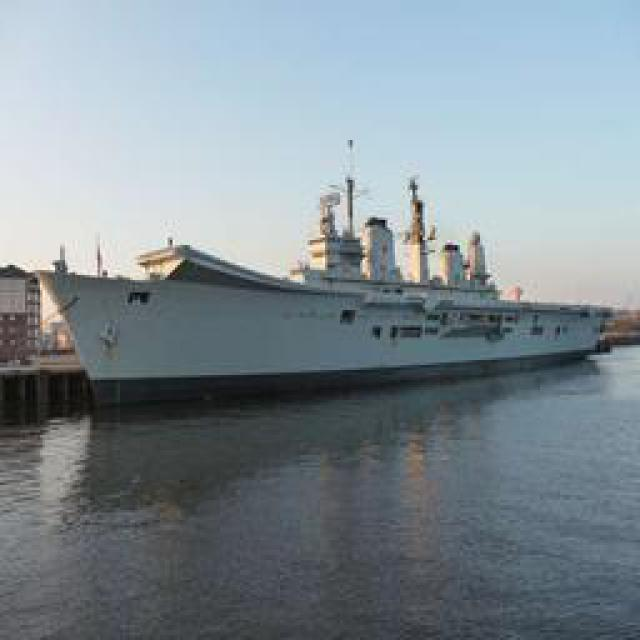Ship: (47, 139, 607, 392)
